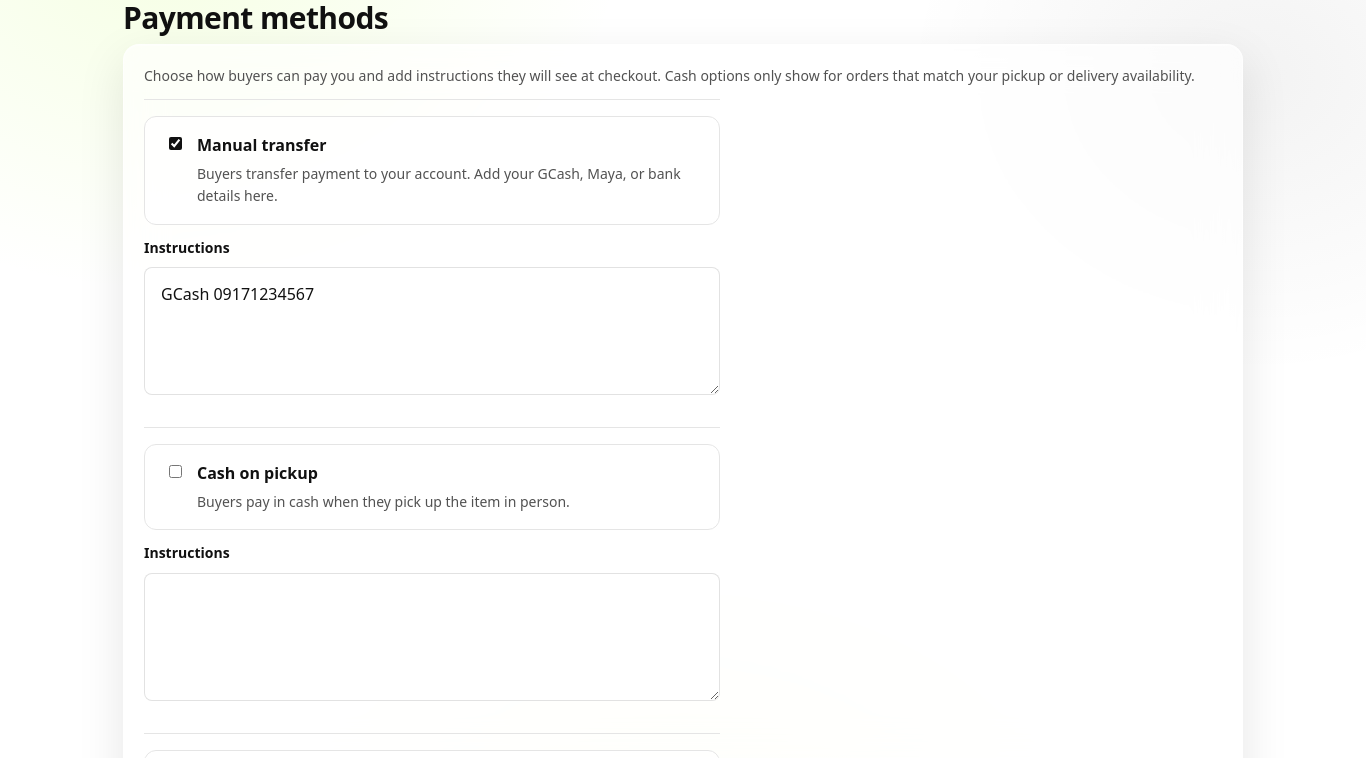
Test: SellerPaymentSettingsPage › requires transfer details before saving
This screenshot has width=1366, height=758.
Expected: the text "Manual transfer" is shown, [197,134,326,156]
Clear the text box labelled "Instructions" below "Manual transfer" at (432, 331), box [144,267,720,395]
(page scrolled)
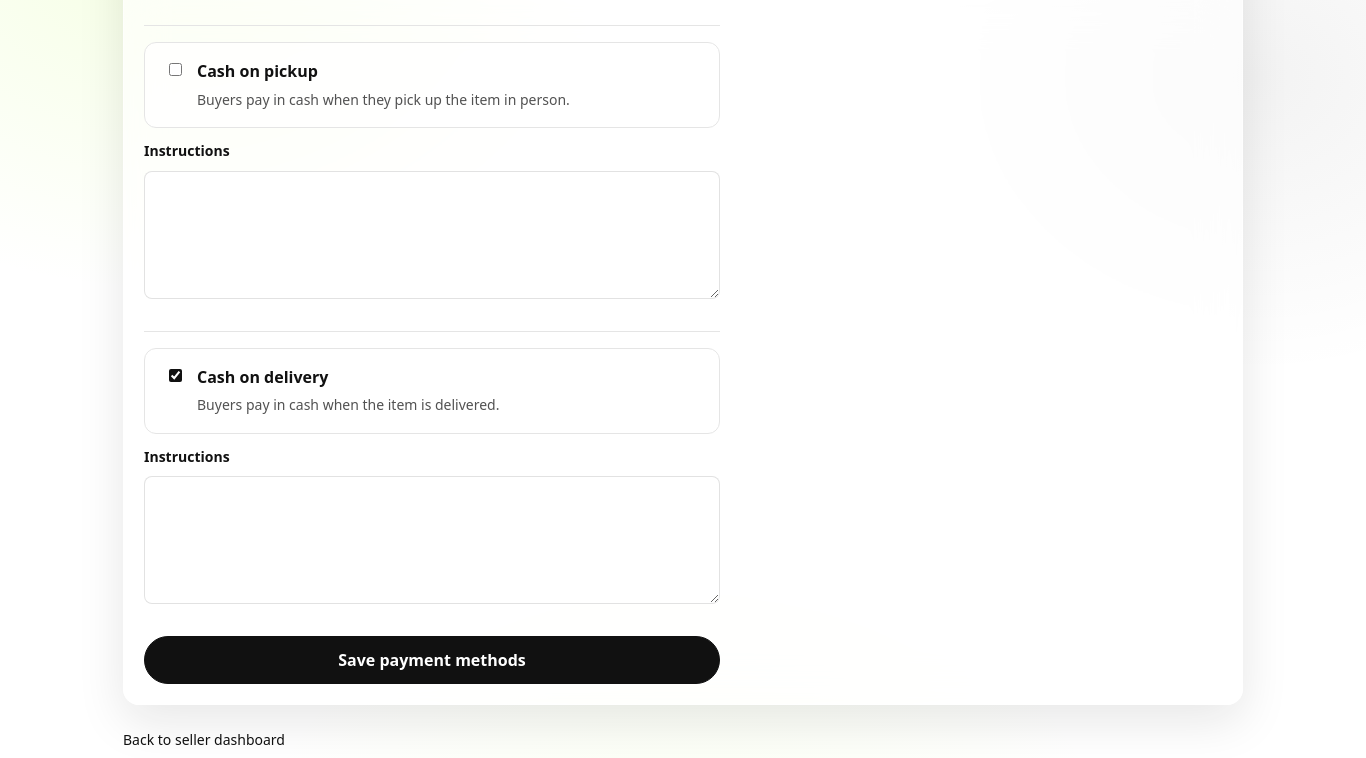
Click the button "Save payment methods".
click(432, 660)  # box [144,636,720,684]
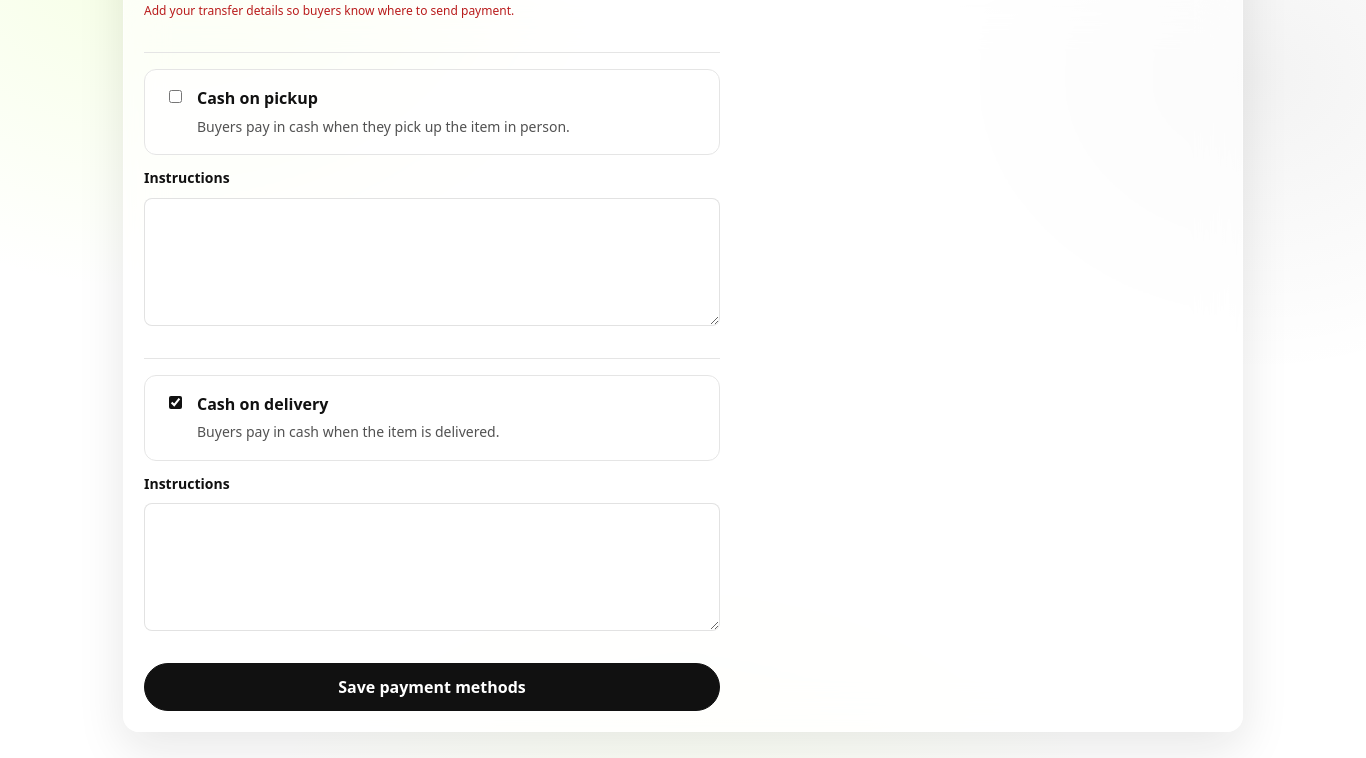
Result: the text "Add your transfer details" is shown at [144,2,514,19]
